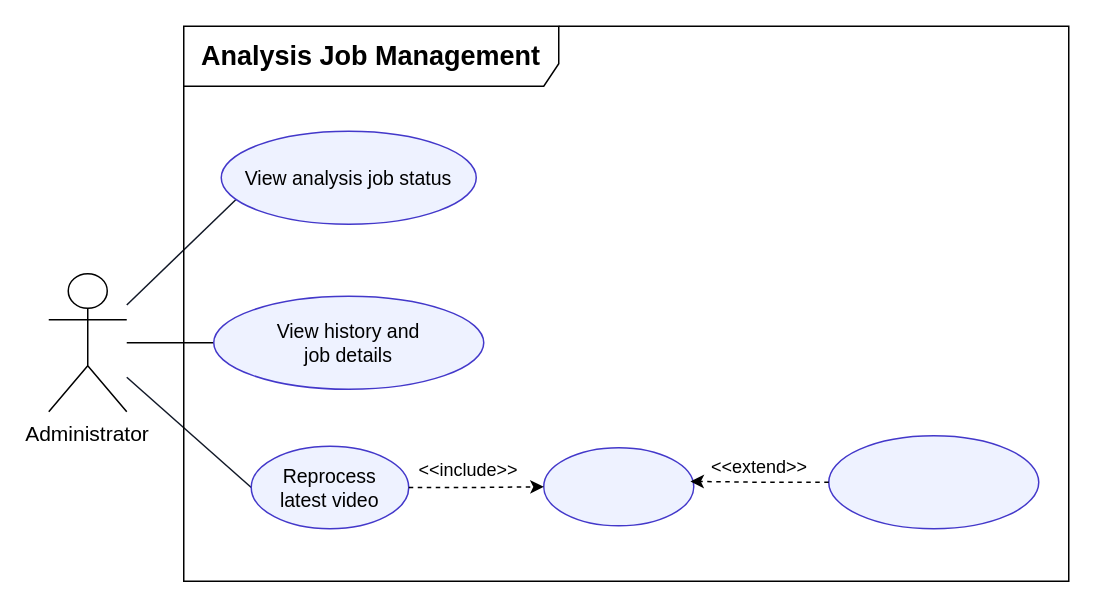
Image size: 1095x608. Some labels were removed from this diagram. Here are the shapes that lost their labels. From the top down, the centre of each, then its label:
the point at 618,486: Run analysis
the point at 933,481: View analysis results
